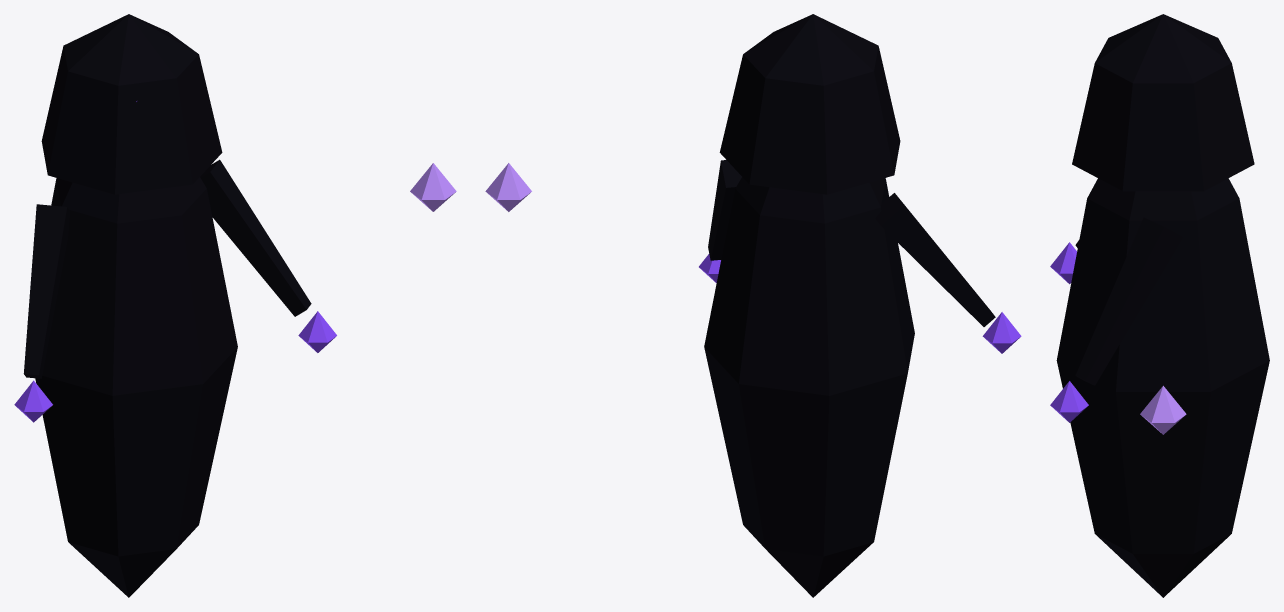
The model's file is EcoSombrio.fbx.
3 renders of one model, left to right at view 1: azimuth 30°, elevation 25°; view 2: azimuth 150°, elevation 25°; view 3: azimuth 270°, elevation 25°, orthographic.
Visible parts, largest first — view 1: Body, ArmL, ArmR, Orb0; view 2: Body, ArmR, ArmL, Orb0; view 3: Body, ArmL, Orb0, ArmR.
Boxes of the visible parts, bbox=[...] form: Body: bbox=[35, 14, 237, 597]; ArmL: bbox=[200, 159, 336, 352]; ArmR: bbox=[14, 204, 69, 422]; Orb0: bbox=[410, 163, 456, 211]; Body: bbox=[704, 14, 914, 597]; ArmR: bbox=[875, 193, 1021, 353]; ArmL: bbox=[699, 160, 741, 282]; Orb0: bbox=[485, 163, 531, 211]; Body: bbox=[1056, 14, 1269, 597]; ArmL: bbox=[1050, 217, 1182, 422]; Orb0: bbox=[1140, 385, 1186, 434]; ArmR: bbox=[1050, 240, 1079, 284].
Bounding box in the file's own units: 1.42 × 1.65 × 0.563.
